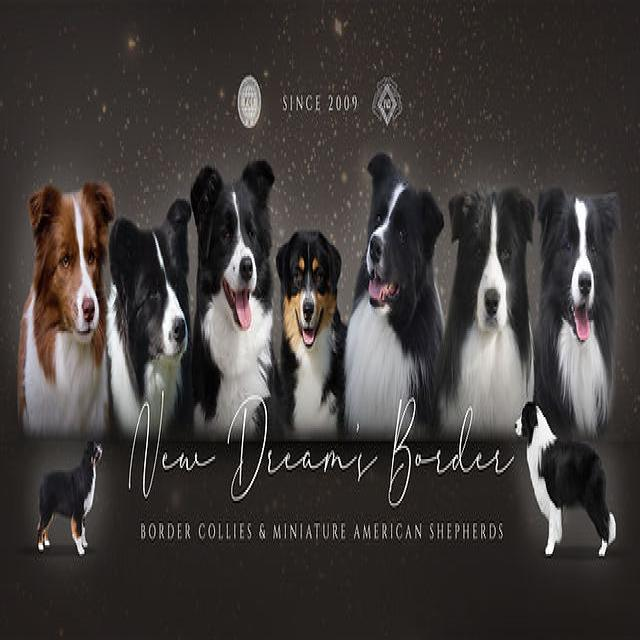BORDER_COLLIE: (334, 145, 436, 474), (11, 152, 117, 456), (187, 146, 278, 474), (99, 186, 200, 466), (438, 174, 538, 445), (529, 183, 623, 454)
